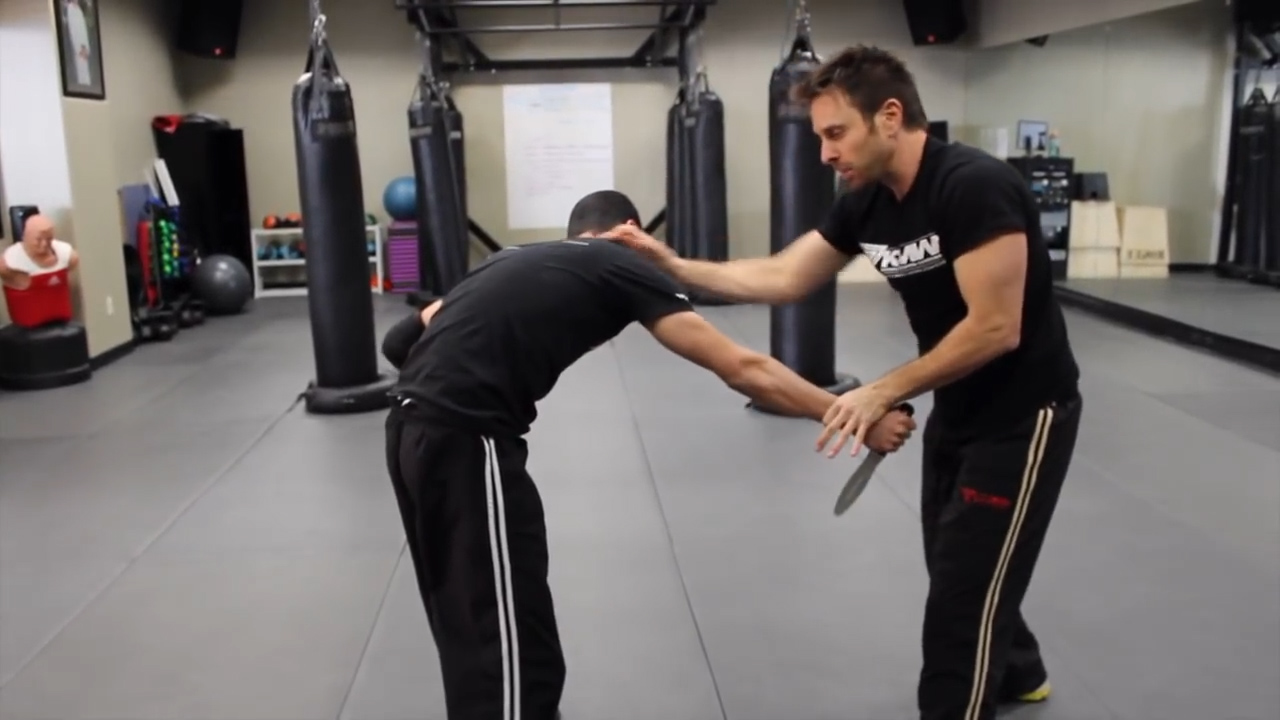knife: (828, 398, 917, 527)
